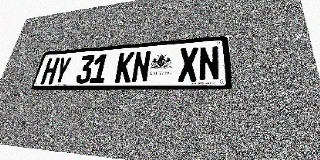1: (89, 54, 109, 83)
3: (75, 55, 95, 84)
H: (40, 57, 60, 84)
K: (114, 52, 135, 83)
N: (199, 45, 220, 81), (131, 51, 151, 83)
X: (178, 47, 198, 82)
Y: (52, 57, 72, 84)
